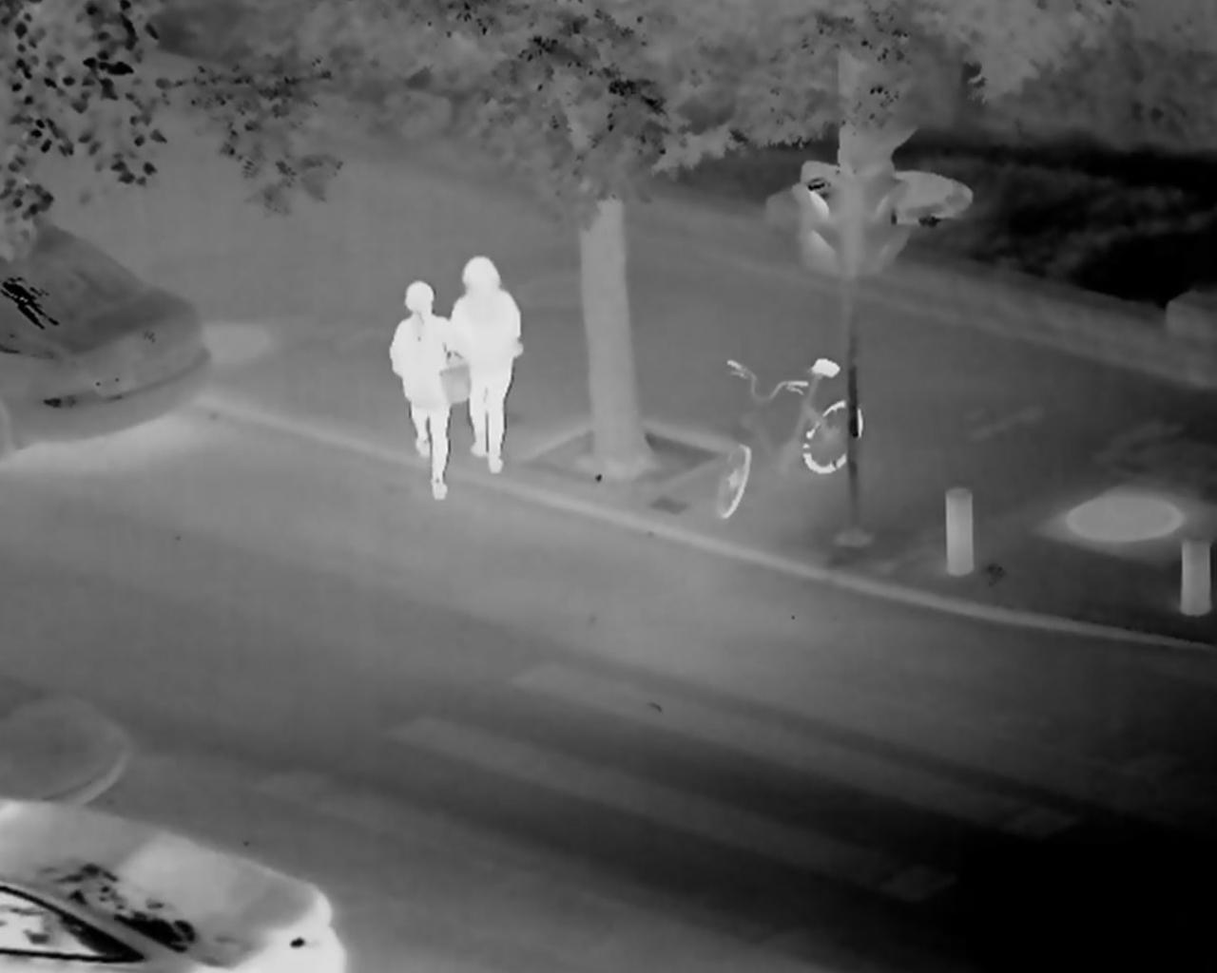person: (448, 257, 526, 479), (386, 280, 457, 504)
